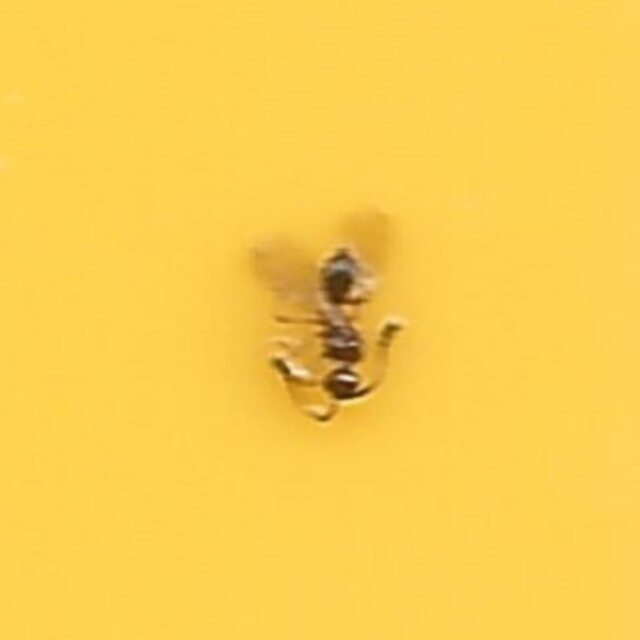Hymenoptera: (229, 201, 411, 439)
